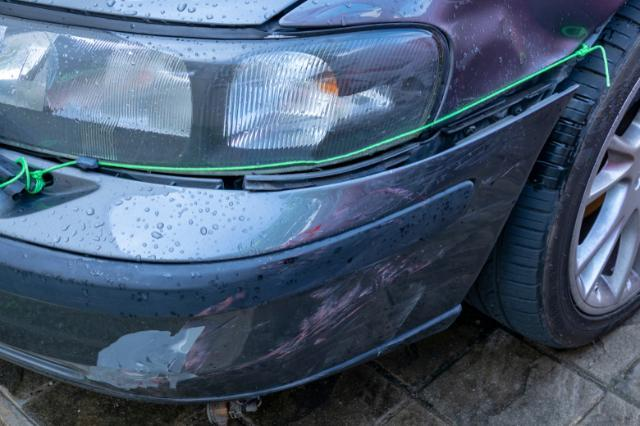Bumper: (79, 245, 492, 395)
Fender: (431, 0, 595, 100)
